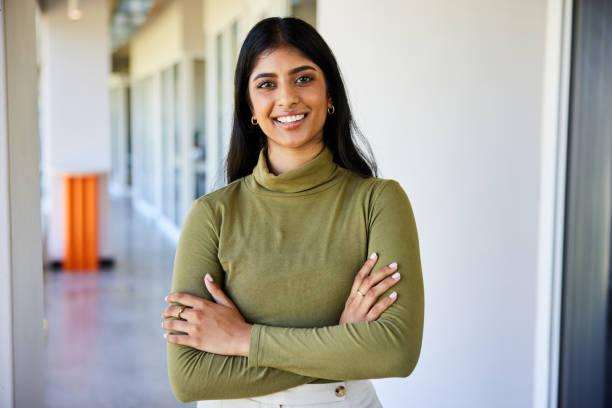no_goggle: (239, 64, 335, 99)
no_helmet: (224, 12, 350, 68)
no_vest: (165, 146, 429, 408)
